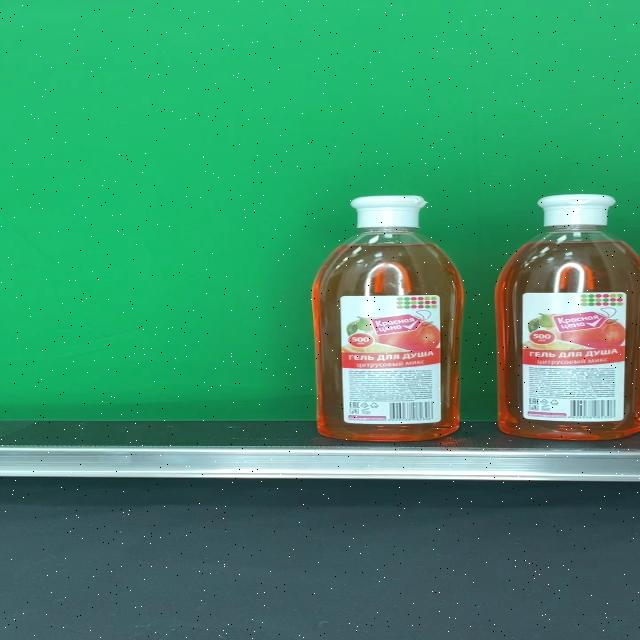Bottle: (312, 195, 464, 442), (494, 192, 640, 440)
Cap: (351, 195, 428, 229), (536, 194, 617, 226)
